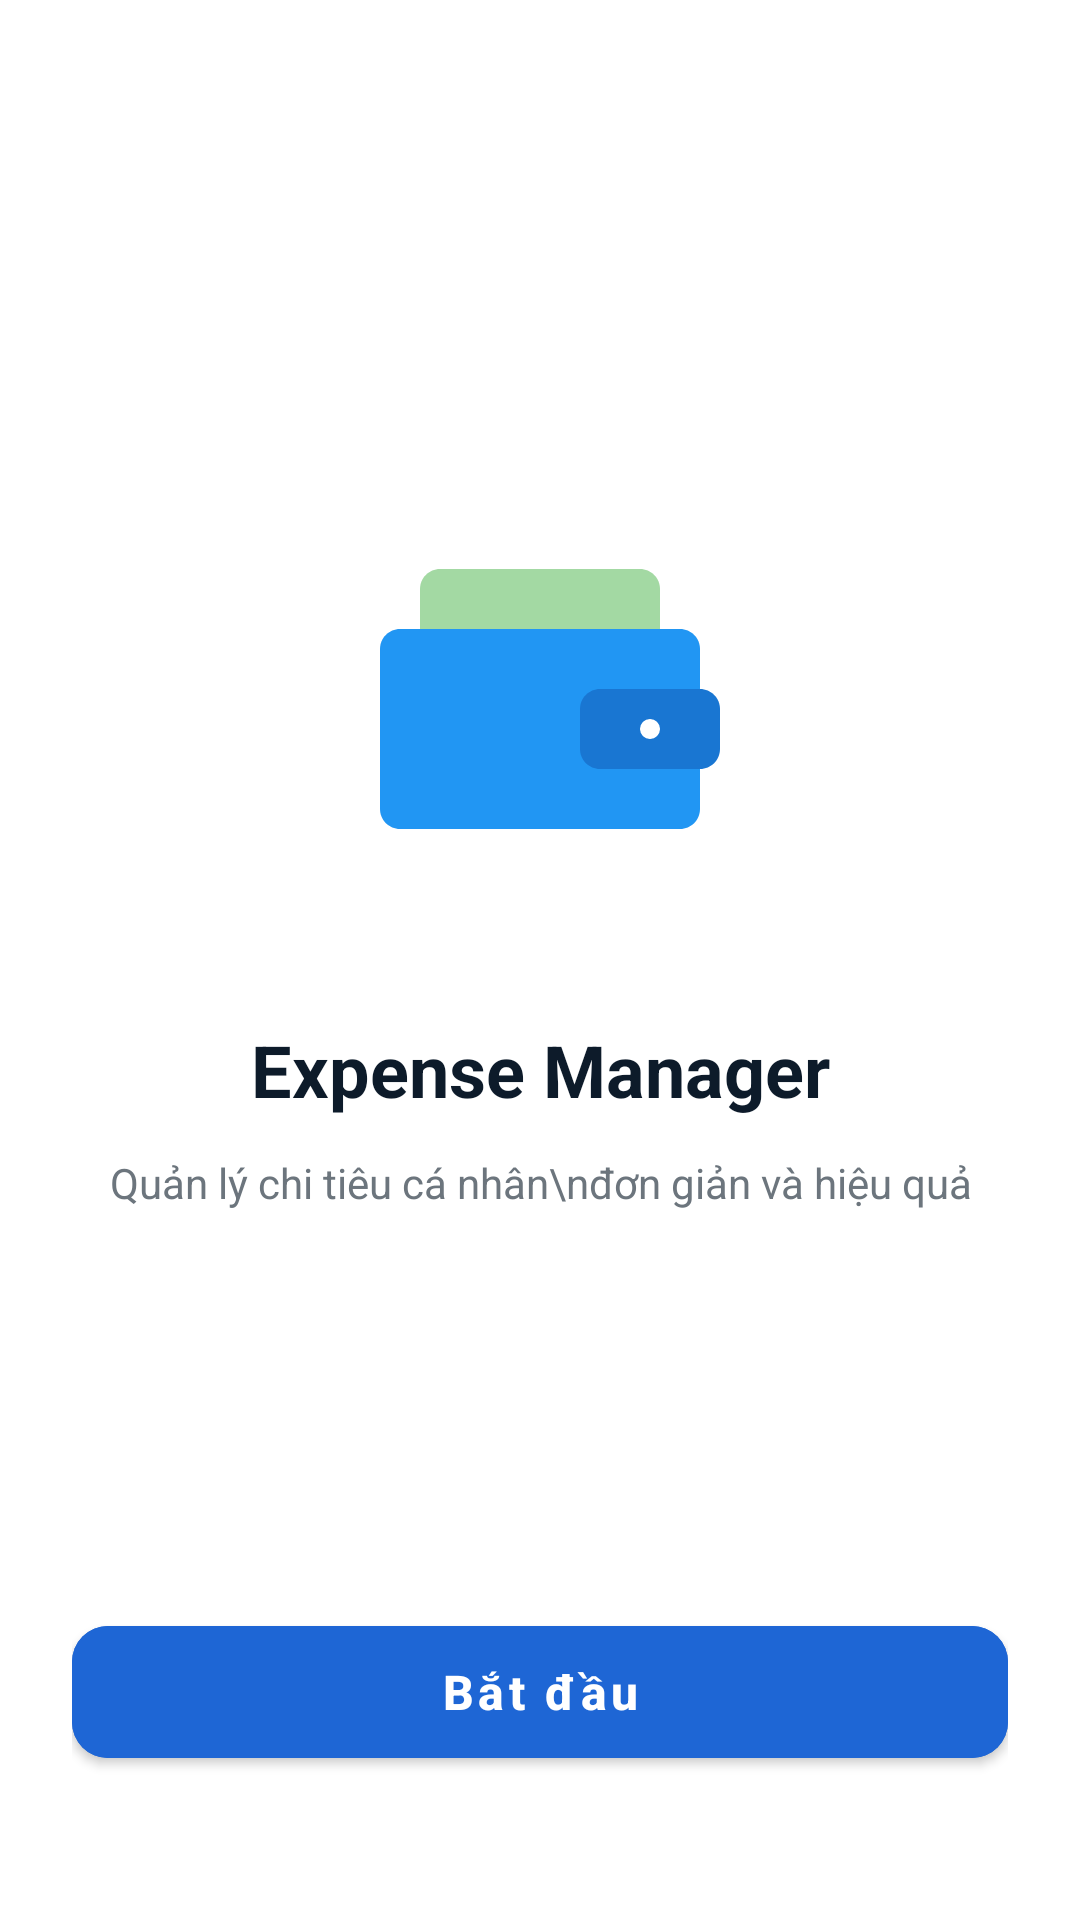

Named icons in this screenshot (1080 × 1920) and their centers, [x,y]:
wallet layered: [550,699]
